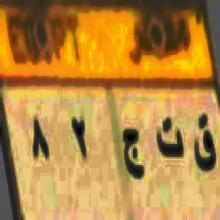2: (70, 109, 91, 173)
8: (24, 114, 51, 172)
jeem: (121, 120, 145, 194)
qaaf: (192, 108, 219, 184)
taa: (151, 111, 186, 167)
